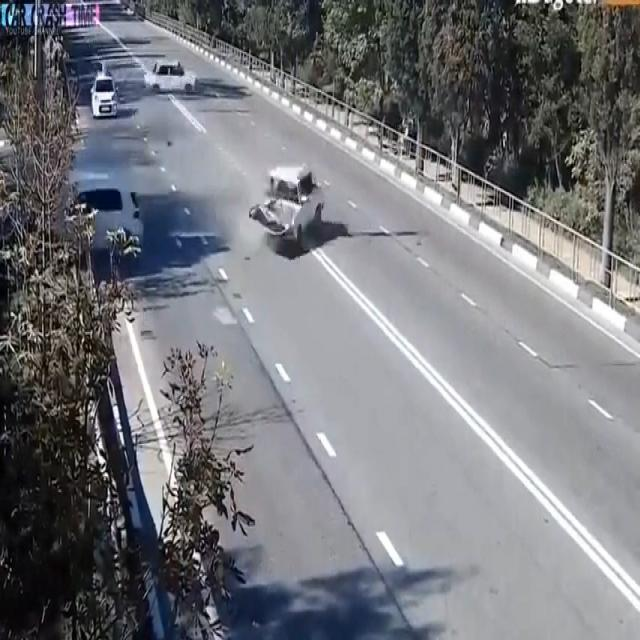Accident: (31, 138, 172, 295), (226, 142, 335, 266)
